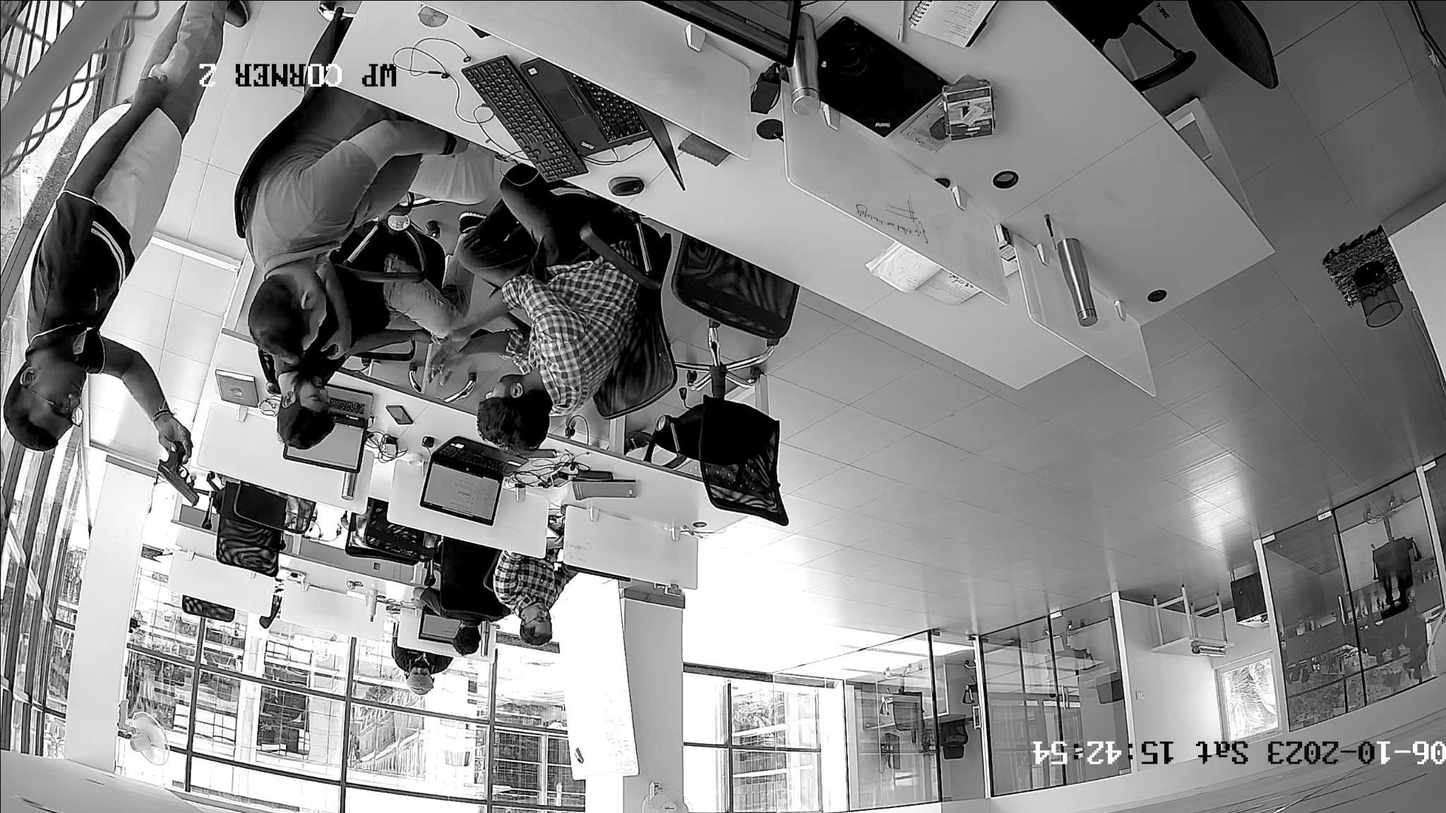gun: (157, 440, 199, 506)
